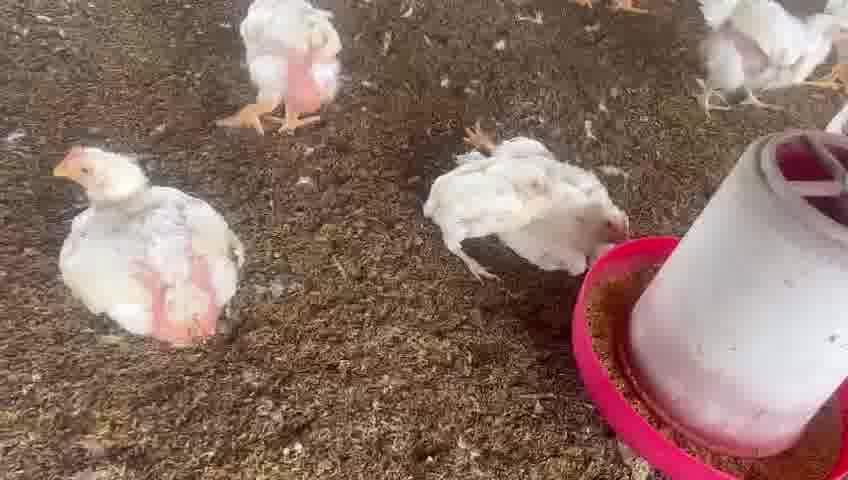AbNormal: (469, 131, 623, 271), (428, 166, 551, 276)
Normal: (48, 146, 254, 353), (209, 0, 376, 155), (693, 0, 842, 116)
